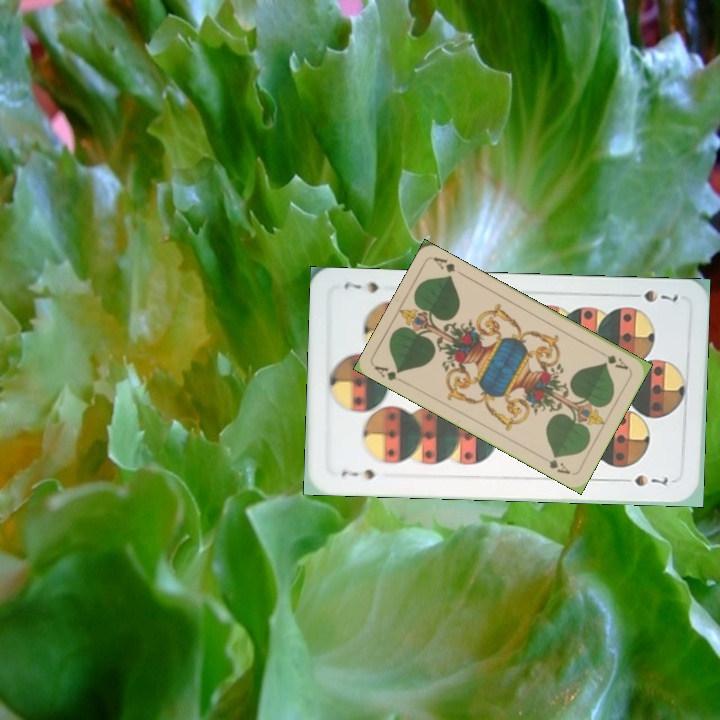GA: (595, 346, 631, 372), (370, 362, 404, 383)
S7: (624, 286, 681, 305), (337, 465, 379, 481)
